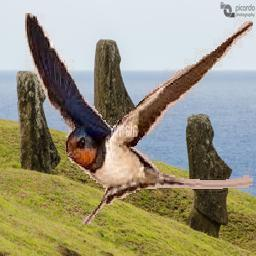Swallow: (25, 13, 253, 225)
